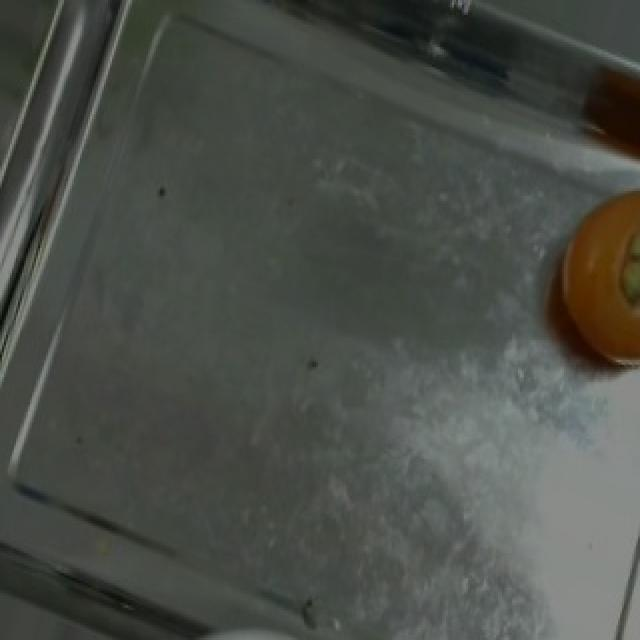Fruit: (532, 164, 640, 392)
